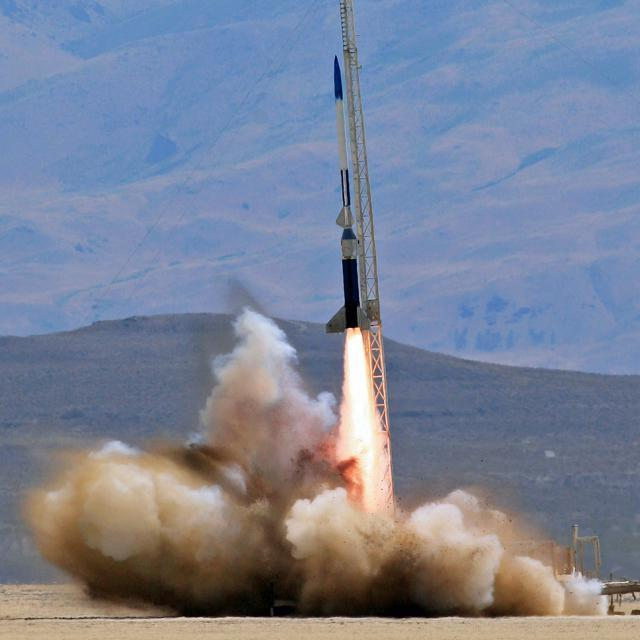missile: (320, 0, 376, 332)
